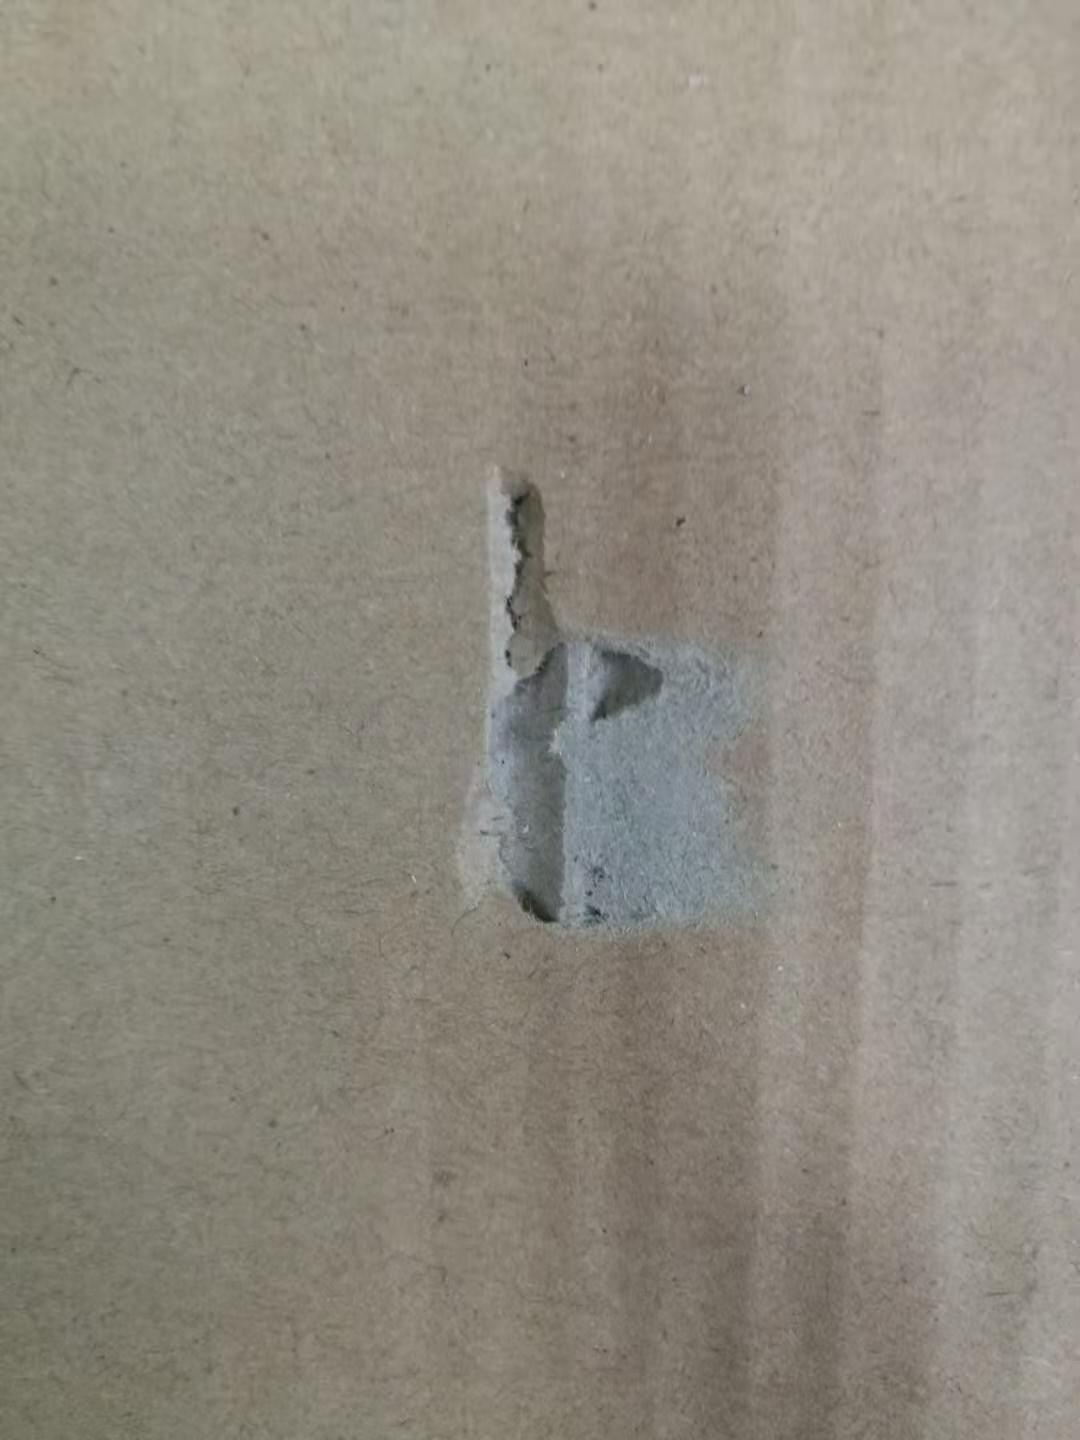defect: (406, 421, 828, 992)
